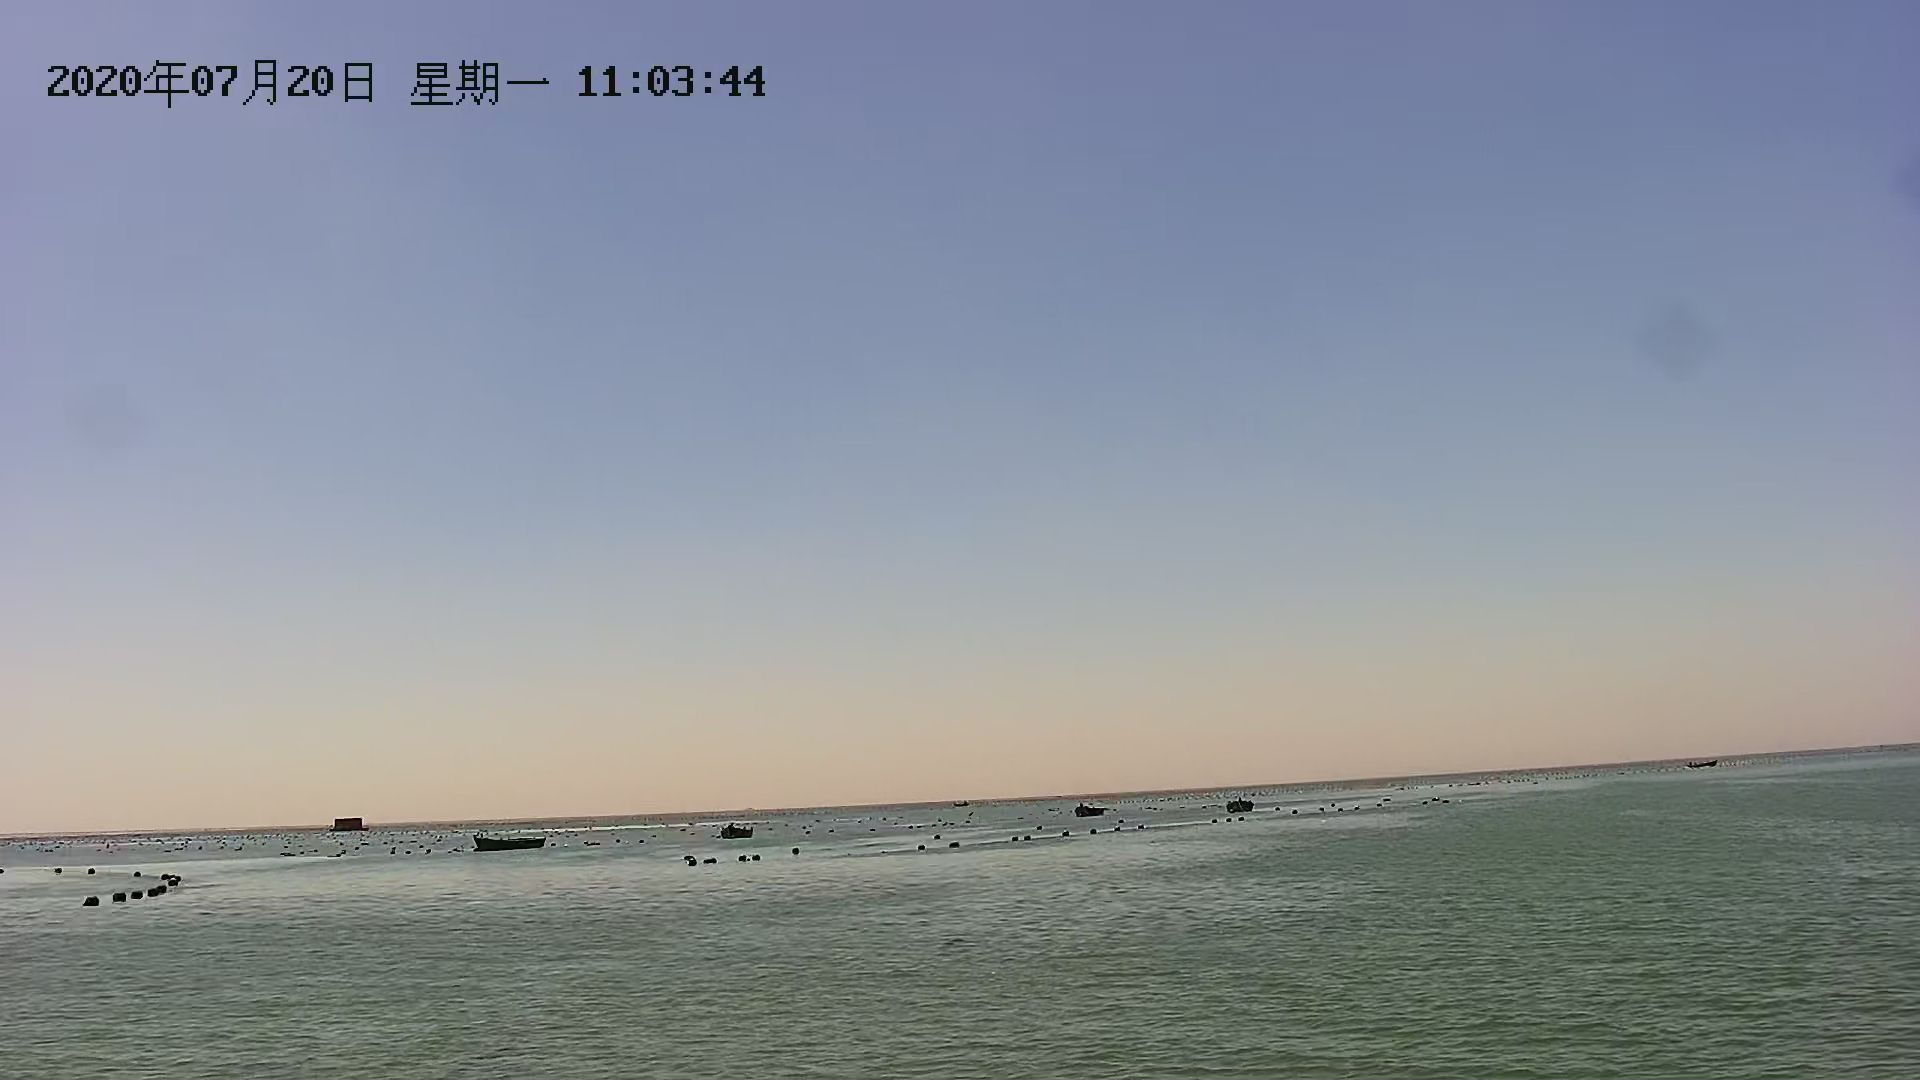ball: (123, 884, 149, 906), (78, 893, 102, 913), (109, 885, 129, 909)
boat: (465, 831, 549, 855), (716, 818, 761, 844), (1222, 791, 1261, 818), (1069, 802, 1110, 818), (1683, 760, 1724, 774)
platform: (324, 811, 364, 836)
